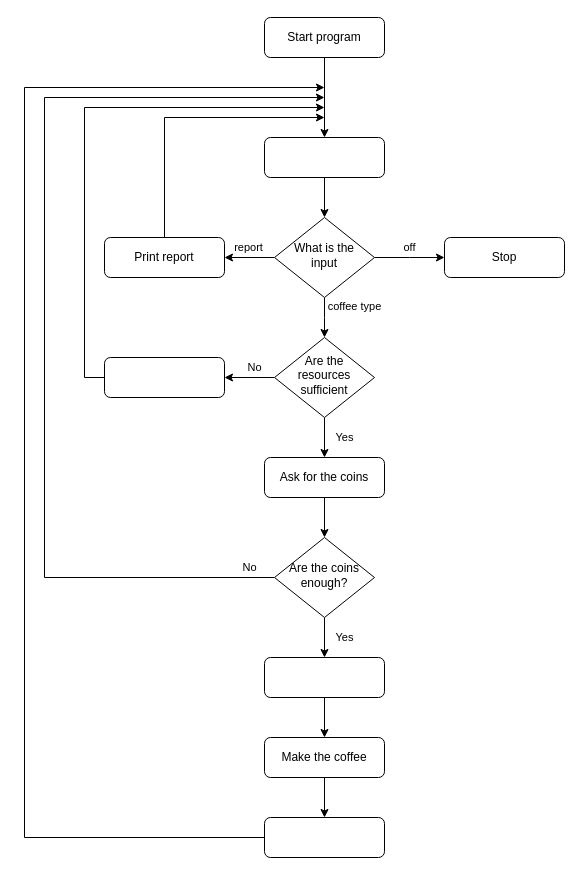
The diagram is 582 pixels wide and 875 high, and some of its shapes have lost their labels. Here are the shapes that lost their labels. From the top down, the centre of each, then its label:
At (x=324, y=157): "Ask for input".
At (x=164, y=377): "Print 'no resources'".
At (x=324, y=677): "Return the change".
At (x=324, y=837): "Reduce resources".
